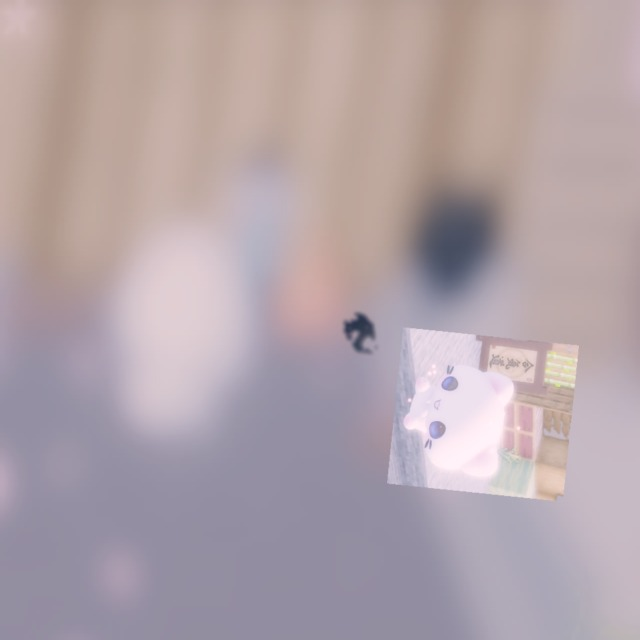urso_branco: (387, 327, 579, 502)
urso_preto: (335, 302, 387, 365)
